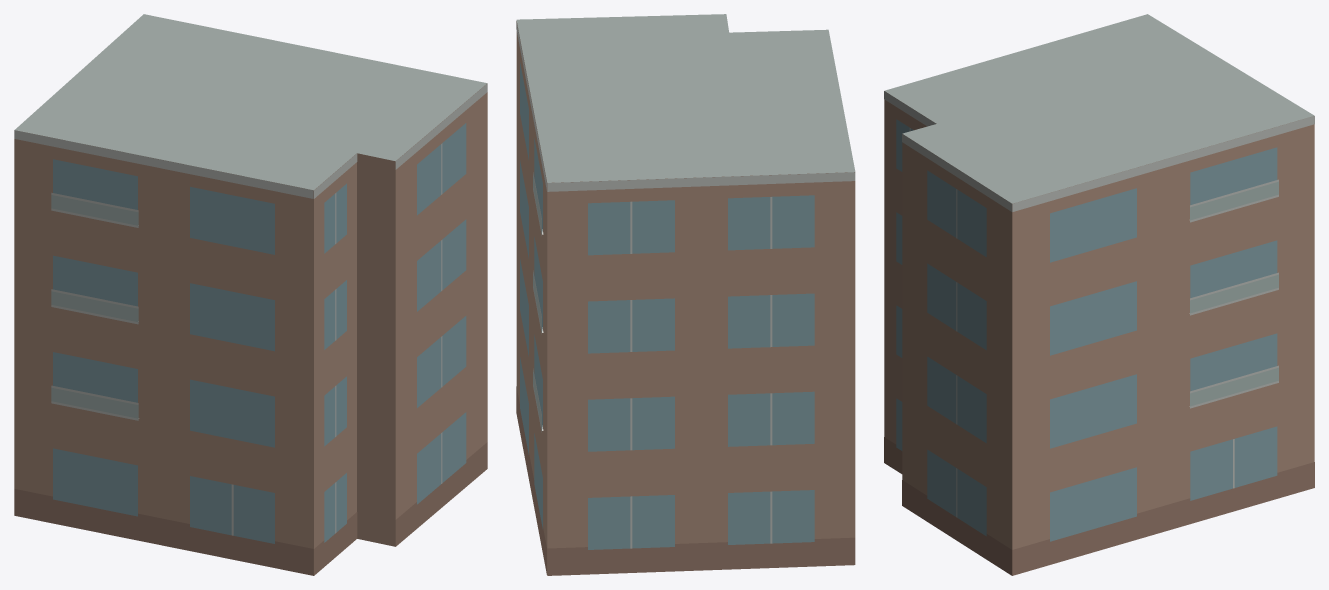
The model's file is survey-upis-32967279.glb.
3 views of the same model, side by side, from view 1: azimuth 30°, elevation 25°; view 2: azimuth 150°, elevation 25°; view 3: azimuth 270°, elevation 25° (orthographic). The views are drawn at different scales.
Parts seen in each view (by area): view 1: survey-upis-32967279.tmp; view 2: survey-upis-32967279.tmp; view 3: survey-upis-32967279.tmp.
Boxes of the visible parts, x1=… form: survey-upis-32967279.tmp: x1=14, y1=14, x2=487, y2=575; survey-upis-32967279.tmp: x1=516, y1=14, x2=855, y2=575; survey-upis-32967279.tmp: x1=884, y1=14, x2=1314, y2=575.
Bounding box in the file's own units: 11.71 × 10.7 × 11.23.
